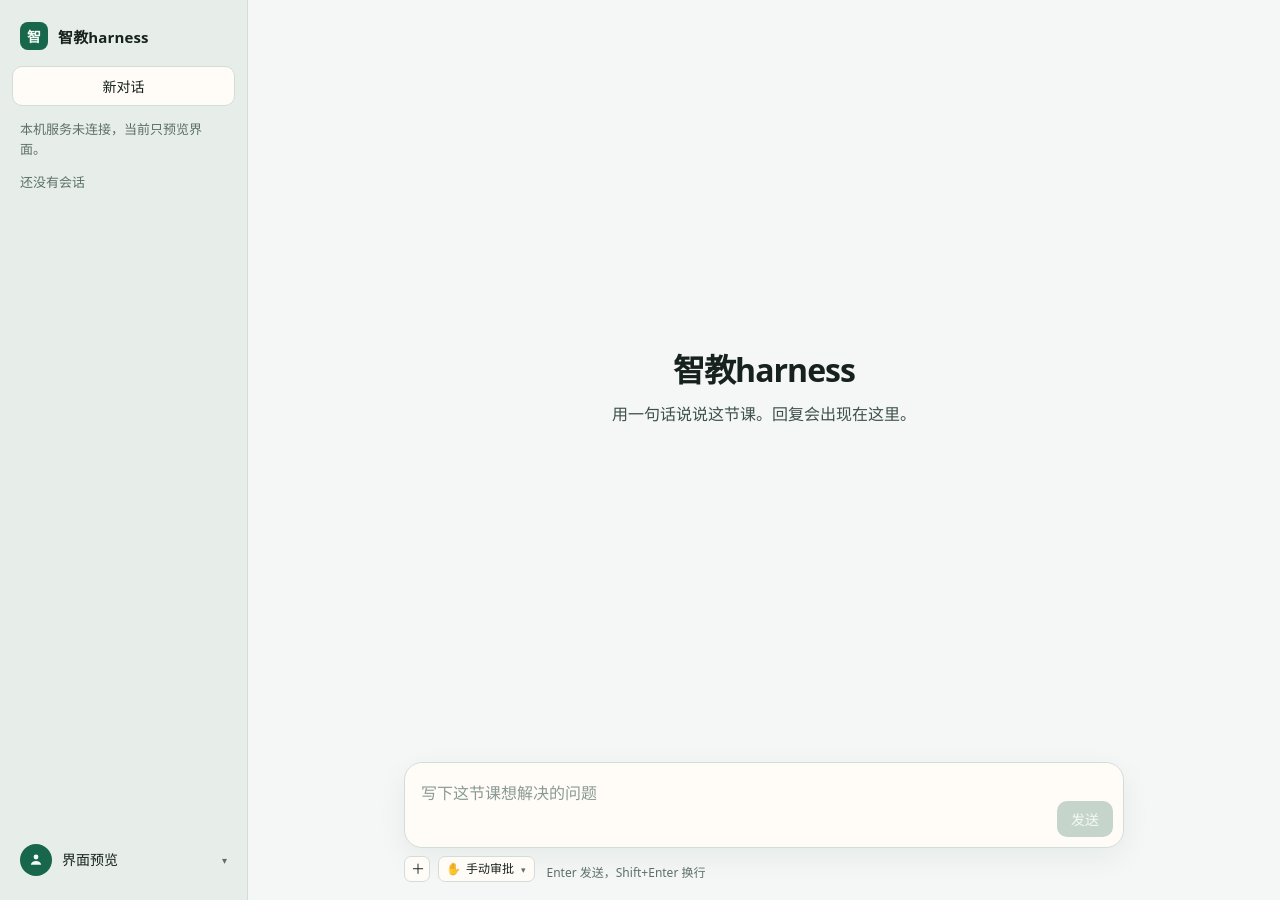
Test case: 工作台 › 连不上后端时进入界面预览，发送后看到本地回复
This screenshot has width=1280, height=900.
Check: the text "本机服务未连接，当前只预览界面。" is shown, box left=20, top=120, right=202, bottom=158
Type "今天讲什么" into the text box named "消息" at x=735, y=805, box left=421, top=773, right=1049, bottom=837
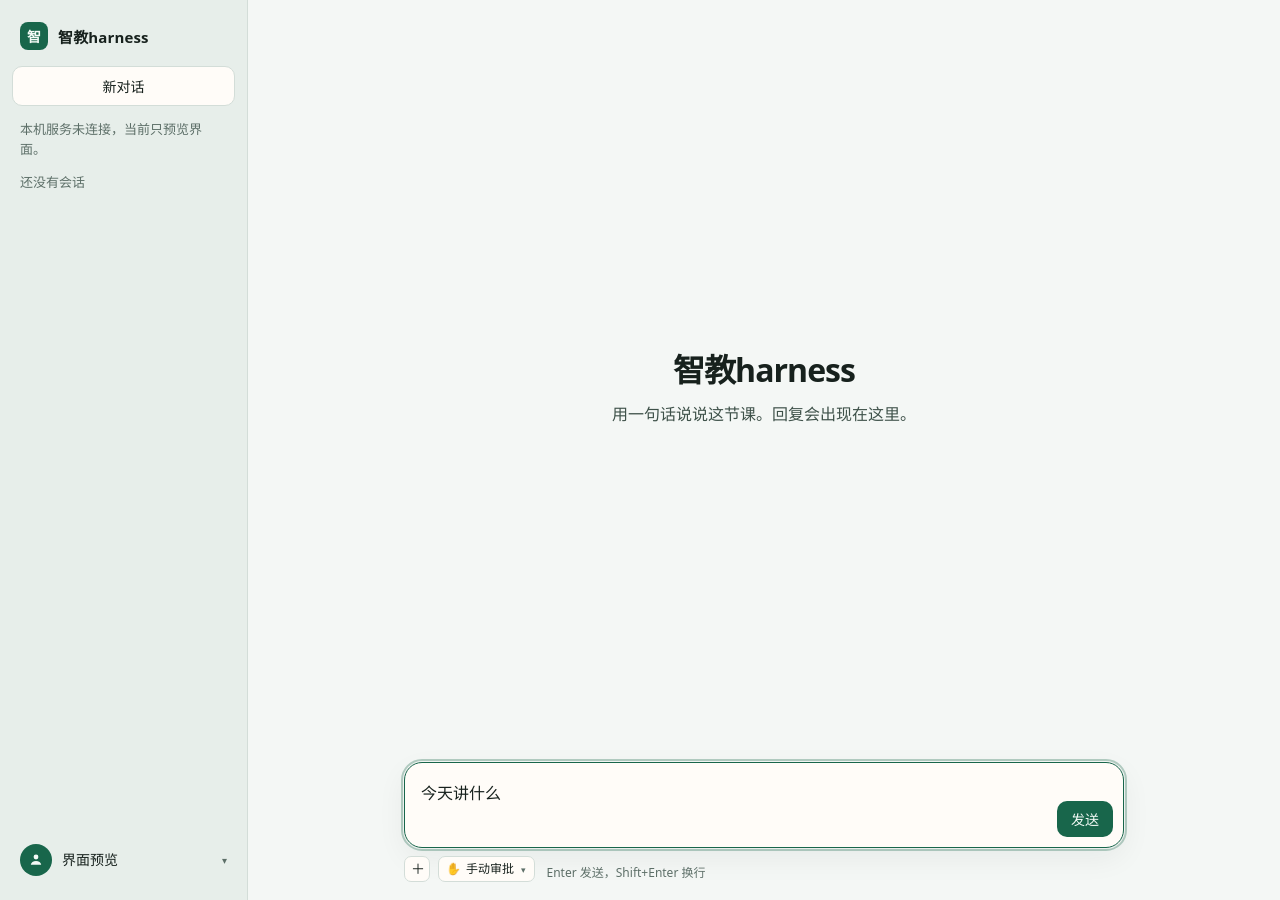
Click the button "发送" at x=1085, y=819, box left=1057, top=801, right=1113, bottom=837
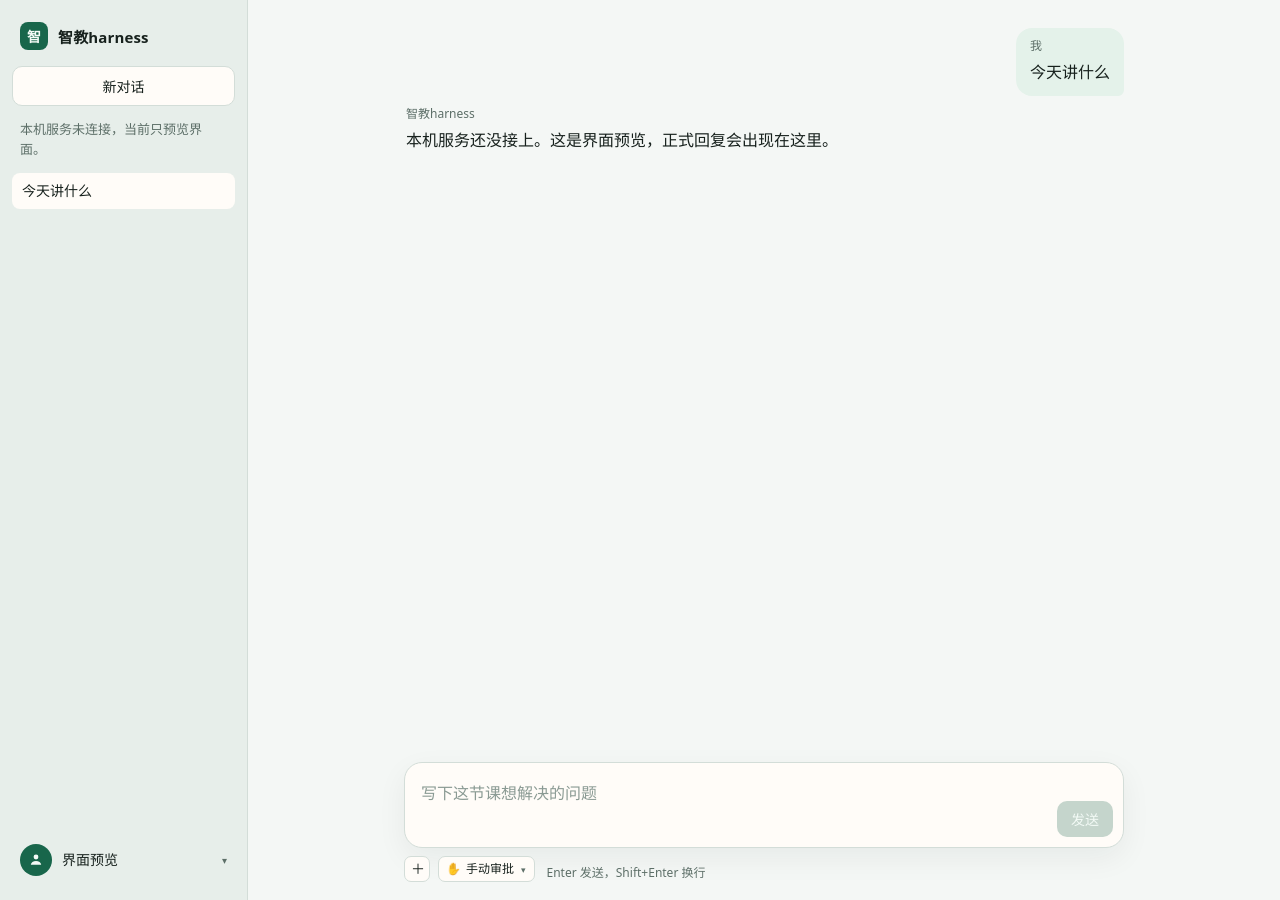
Check: the text "本机服务还没接上。这是界面预览，正式回复会出现在这里。" is shown, box left=406, top=127, right=838, bottom=154
